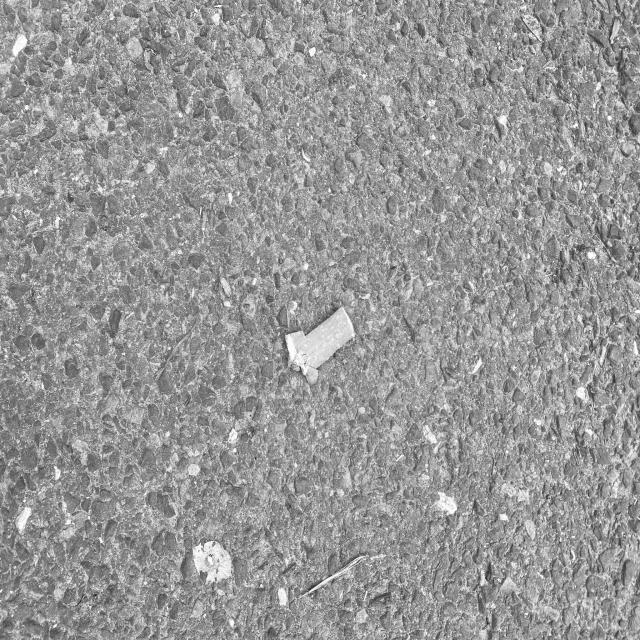other waste: (285, 306, 355, 386)
